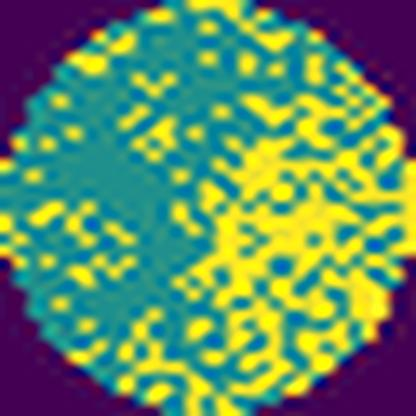Random: (99, 60, 416, 416)
